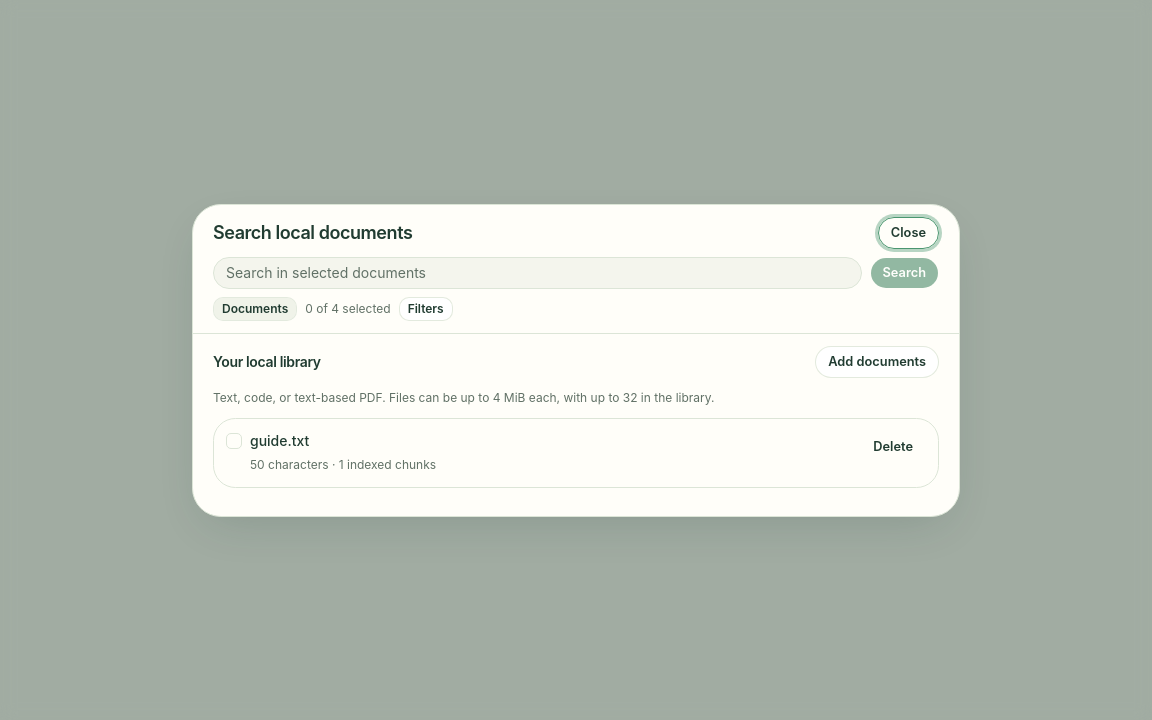
it: closing a pending source selection never writes into a later chat draft
Click the checkbox named "guide.txt": x=234, y=440 [226,432,242,448]
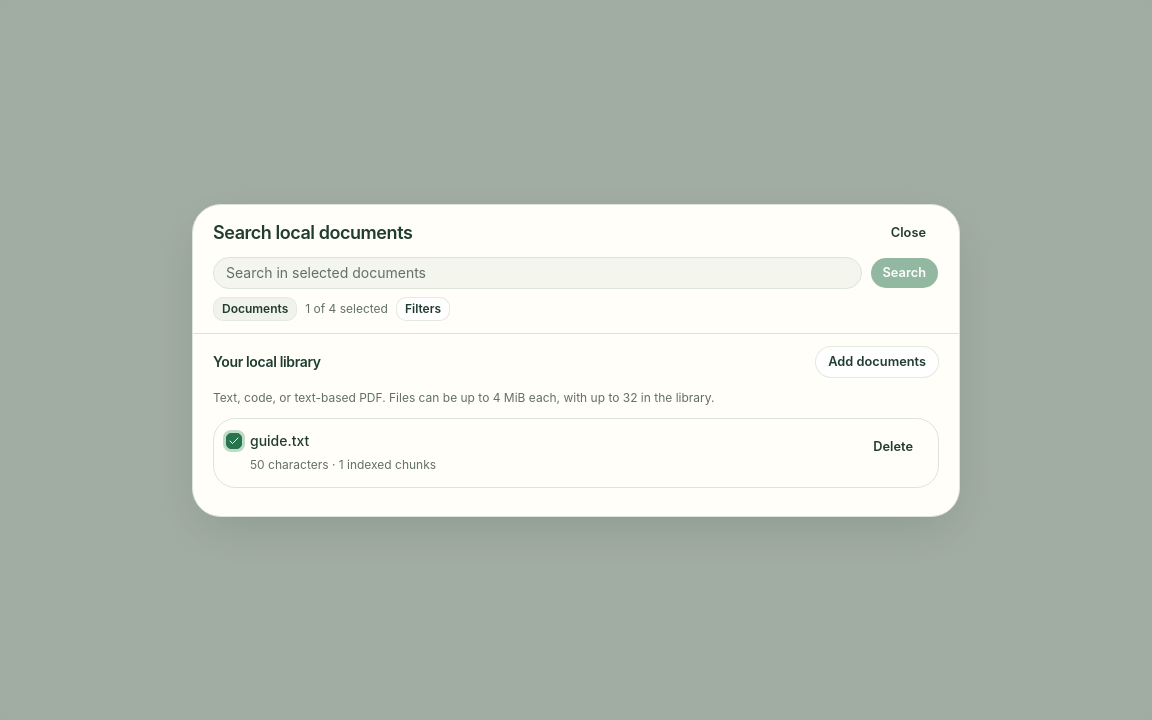
In the field named "What are you looking for?": x=537, y=272 [213,256,862,288], type "recovery"
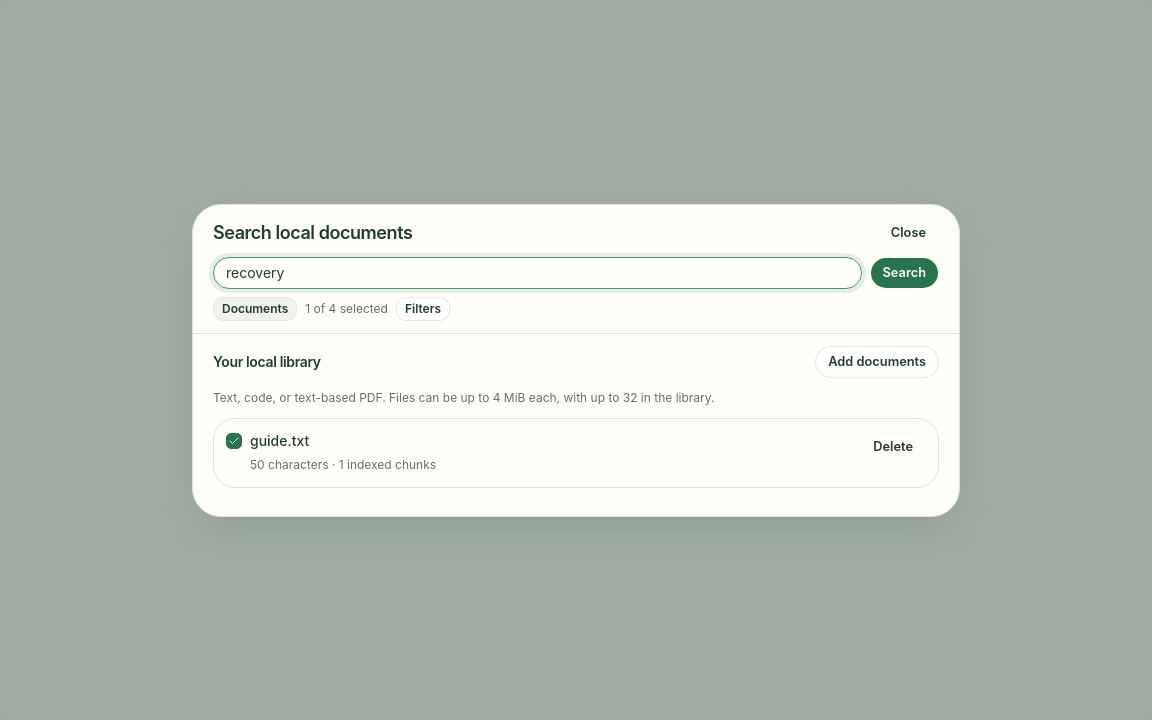
Click the button with aria-label "Search selected documents": x=904, y=272 [870,256,939,288]
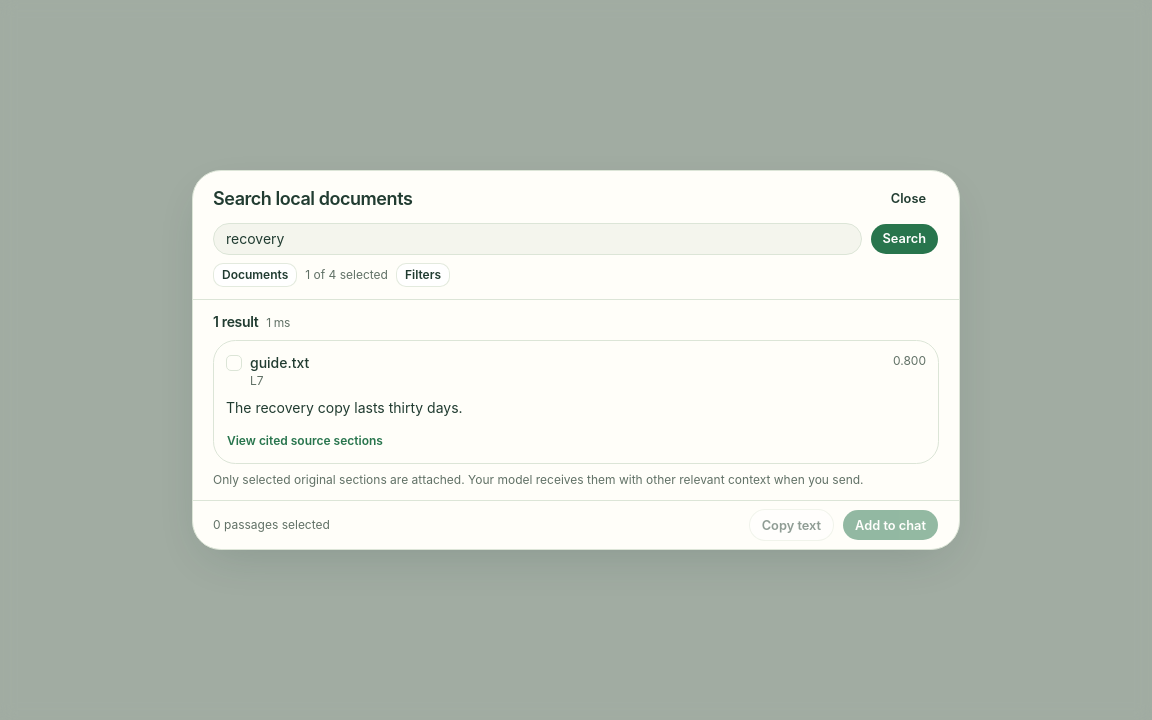
Click the checkbox: x=234, y=363 [226,355,242,371]
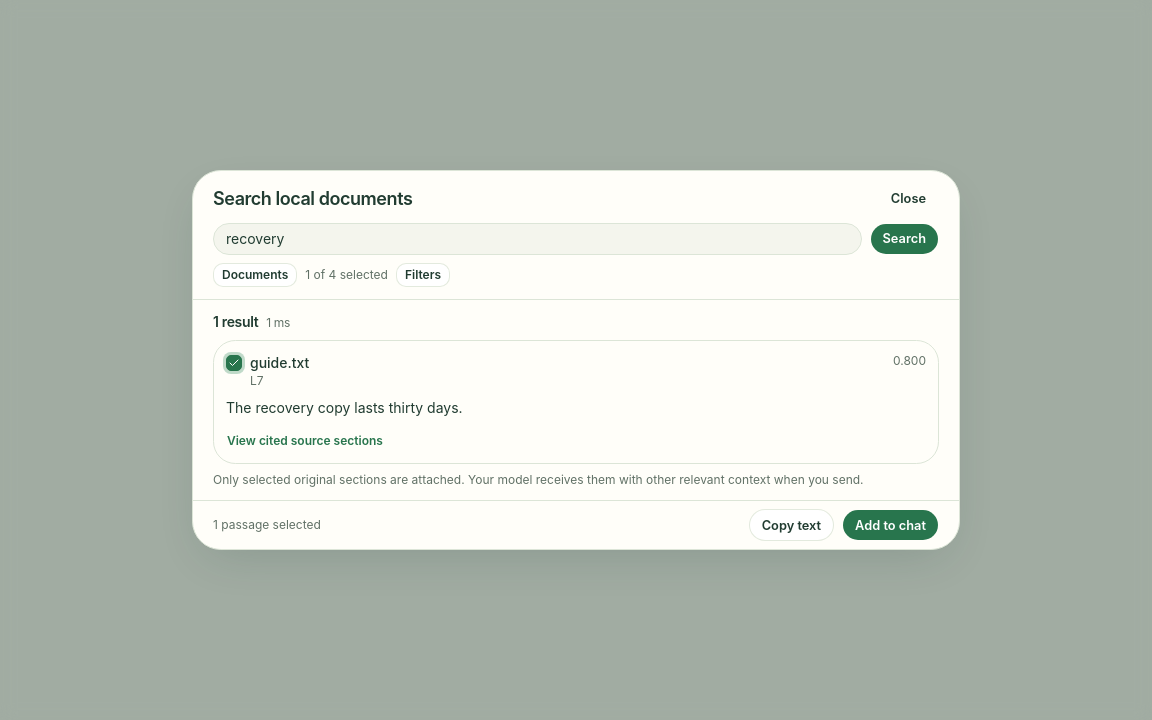
Click the button with aria-label "Use selected results in chat": x=891, y=525 [842,509,939,541]
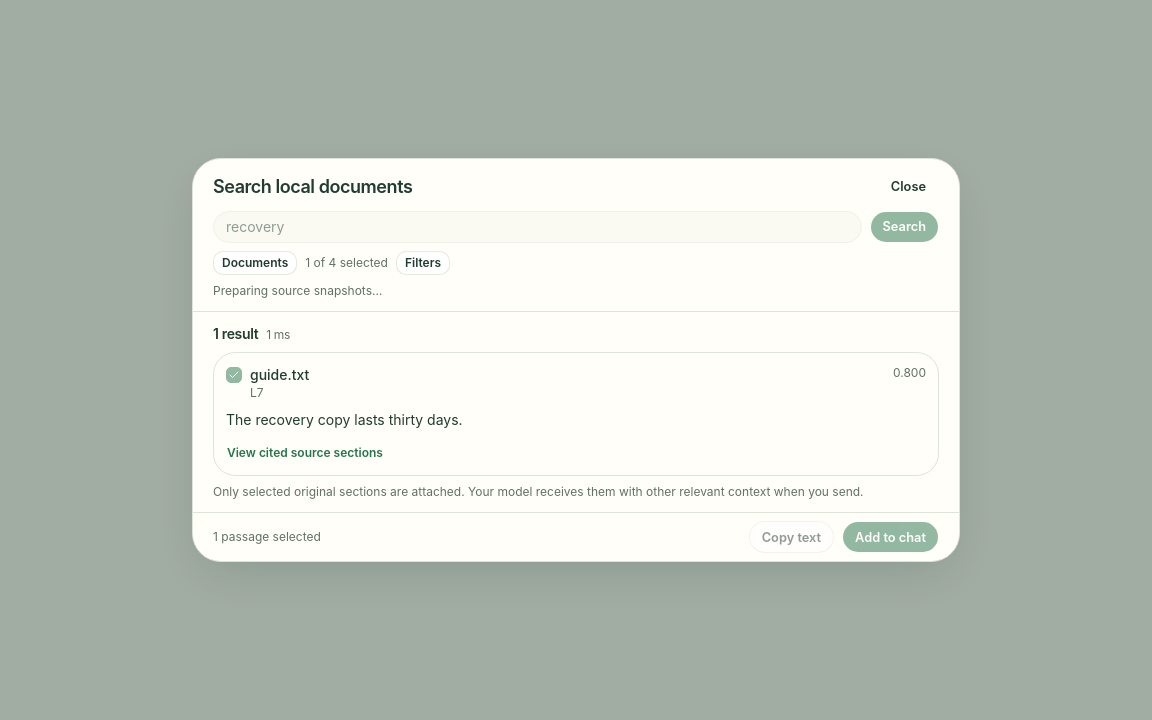
Check: the field named "What are you looking for?" is disabled, box [213,211,862,243]
